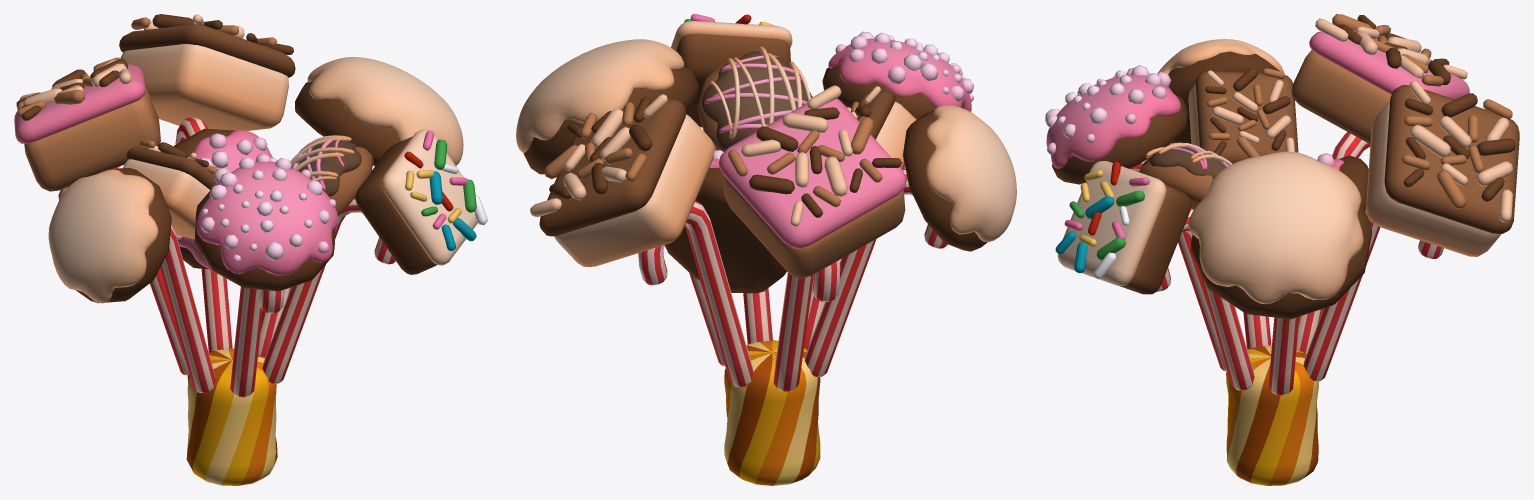
Rendered from cw_tree_28.fbx.
3 views of the same model, side by side, from view 1: azimuth 30°, elevation 25°; view 2: azimuth 150°, elevation 25°; view 3: azimuth 270°, elevation 25° (orthographic). The views are drawn at different scales.
Visible parts, largest first — view 1: cw_t_28; view 2: cw_t_28; view 3: cw_t_28.
Part boxes in pixels (x1,y1,x2,y2): cw_t_28: (14,14,487,485); cw_t_28: (516,14,1016,485); cw_t_28: (1045,14,1519,485).
Bounding box in the file's own units: 215 × 198 × 206.
